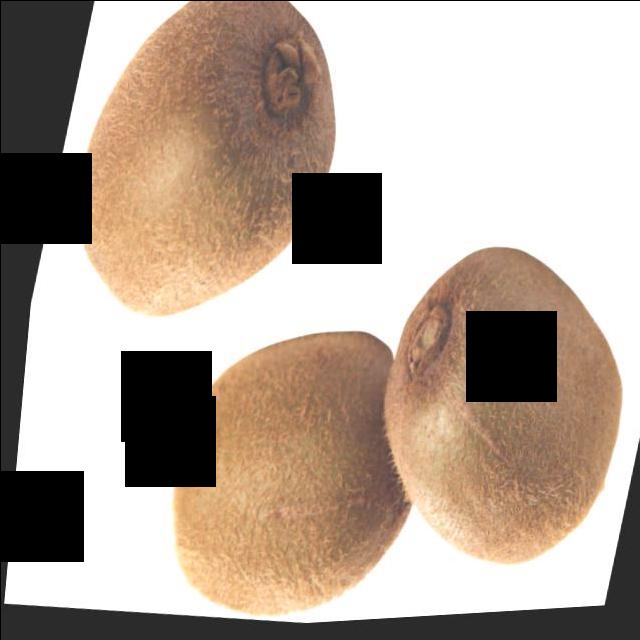kiwi: (40, 2, 362, 348), (342, 232, 640, 592), (142, 314, 445, 635)
